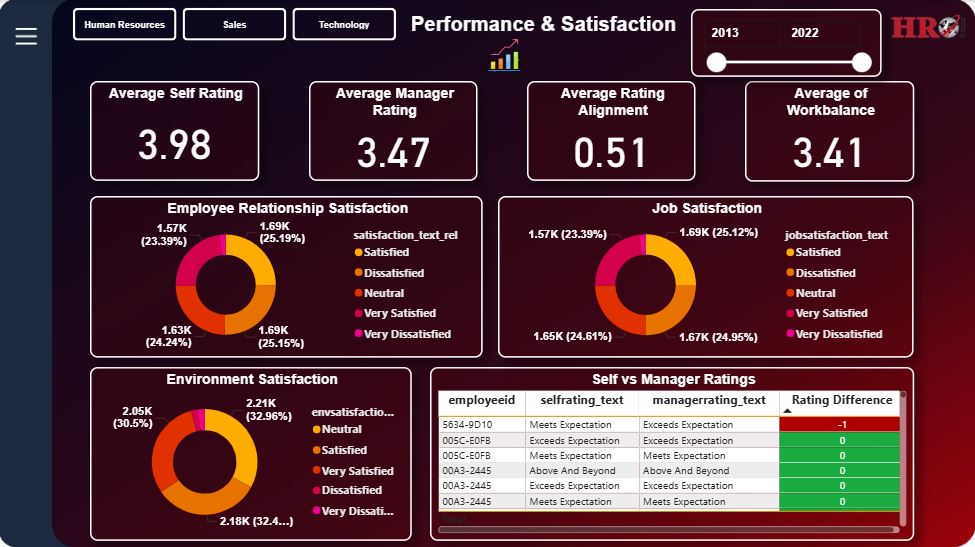

Layout of this report page (visuals, bound fields, positions):
{"tool":"powerbi","page":{"name":"Performance & Satisfaction","canvas":[1280,720],"ordinal":2},"visuals":[{"type":"card","title":"Average Self Rating","fields":{"Values":["performance_fact.Average Self Rating"]},"box":[118.3,106.7,221.7,131],"z":0},{"type":"card","title":"Average Manager Rating","fields":{"Values":["performance_fact.Average Manager Rating"]},"box":[404.6,106,221.4,131],"z":1000},{"type":"card","title":"Average of Workbalance","fields":{"Values":["Avg(performance_fact.worklifebalance)"]},"box":[976.7,106.7,221.7,131.7],"z":2000},{"type":"tableEx","title":"Self vs Manager Ratings","fields":{"Values":["performance_fact.employeeid","performance_fact.rating_text_self","performance_fact.managerrating_text","performance_fact.Rating Difference"]},"box":[563.3,481,635,228.3],"z":3000},{"type":"card","title":"Average Rating Alignment","fields":{"Values":["performance_fact.Average Rating Alignment"]},"box":[690.6,106,221.4,131],"z":4000},{"type":"donutChart","title":"Environment Satisfaction","fields":{"Category":["performance_fact.envsatisfaction_text"],"Y":["CountNonNull(performance_fact.envsatisfaction_text)"]},"box":[118.3,481.7,421.7,228],"z":5000},{"type":"donutChart","title":"Job Satisfaction","fields":{"Category":["performance_fact.jobsatisfaction_text"],"Y":["CountNonNull(performance_fact.jobsatisfaction_text)"]},"box":[653.3,256.7,545,211.7],"z":6000},{"type":"donutChart","title":"Employee Relationship Satisfaction","fields":{"Category":["performance_fact.satisfaction_text_rel"],"Y":["CountNonNull(performance_fact.satisfaction_text_rel)"]},"box":[118.3,256.7,515,211.7],"z":7000},{"type":"textbox","box":[528,11.2,368.8,41.2],"z":8000},{"type":"actionButton","title":"Menu btn","box":[15,27.1,40,40],"z":9000},{"type":"advancedSlicerVisual","fields":{"Values":["employee_master.department"]},"box":[90,5,436.2,53.8],"z":10000},{"type":"slicer","title":"Years","fields":{"Values":["performance_fact.reviewyear"]},"box":[905.7,11.4,250,88.6],"z":12000},{"type":"image","box":[632,45,58,55],"z":13000}]}

Visuals, with their boxes in screenshot pixels (x1, y1, x2, y2), scaled from the page's 1280x720 canvas onto the 975x547 screenshot:
"Average Self Rating" card: l=90, t=81, r=259, b=181
"Average Manager Rating" card: l=308, t=81, r=477, b=180
"Average of Workbalance" card: l=744, t=81, r=913, b=181
"Self vs Manager Ratings" tableEx: l=429, t=365, r=913, b=539
"Average Rating Alignment" card: l=526, t=81, r=695, b=180
"Environment Satisfaction" donutChart: l=90, t=366, r=411, b=539
"Job Satisfaction" donutChart: l=498, t=195, r=913, b=356
"Employee Relationship Satisfaction" donutChart: l=90, t=195, r=482, b=356
textbox: l=402, t=9, r=683, b=40
"Menu btn" actionButton: l=11, t=21, r=42, b=51
advancedSlicerVisual - employee_master.department: l=69, t=4, r=401, b=45
"Years" slicer: l=690, t=9, r=880, b=76
image: l=481, t=34, r=526, b=76
